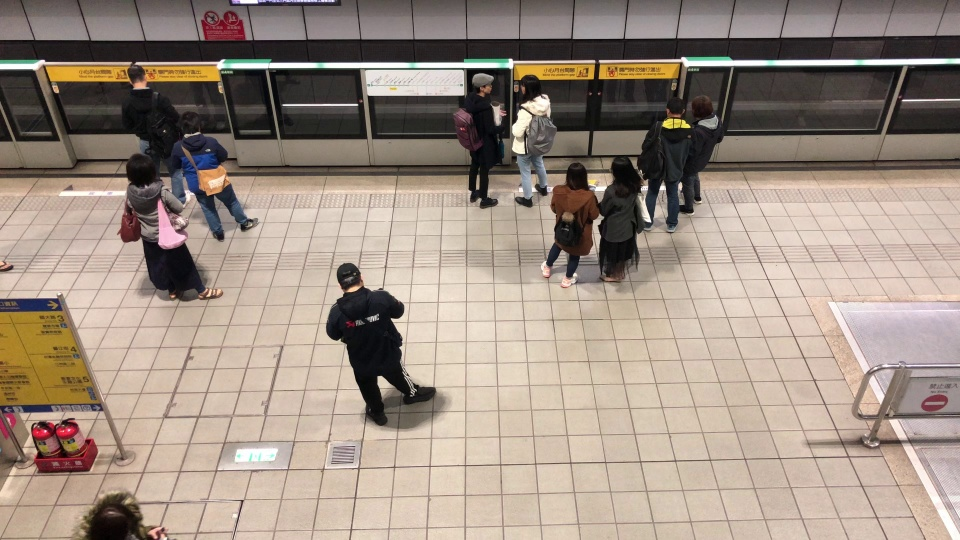person_head: (90, 498, 140, 538), (126, 152, 156, 190), (336, 260, 366, 293), (606, 155, 638, 183), (564, 161, 589, 189), (518, 73, 543, 98), (179, 110, 202, 137), (127, 63, 149, 91), (470, 72, 494, 96), (691, 93, 713, 119), (664, 97, 685, 120)
person_vbox: (324, 262, 436, 425), (116, 153, 223, 302), (170, 111, 259, 242), (120, 63, 191, 208), (636, 97, 699, 234), (539, 160, 600, 287), (453, 73, 507, 210), (597, 155, 646, 283), (511, 74, 557, 207), (678, 93, 723, 216)
